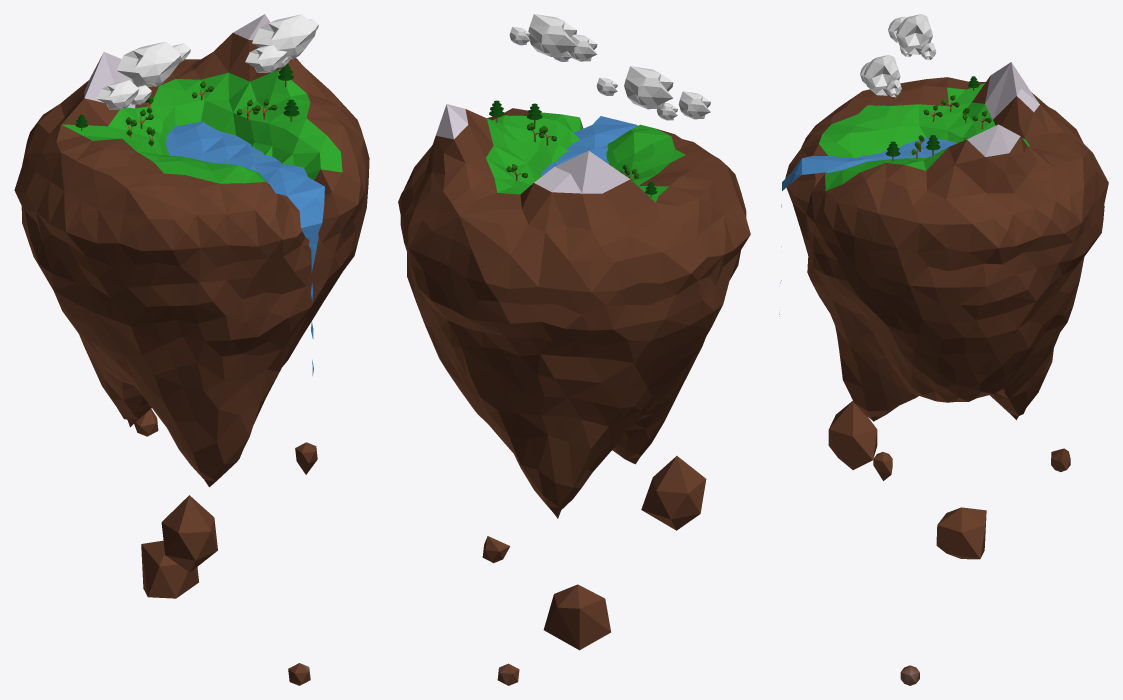
The model's file is low-poly-island-scene.gltf.
The picture shows the model from 3 angles, left to right: view 1: azimuth 30°, elevation 25°; view 2: azimuth 150°, elevation 25°; view 3: azimuth 270°, elevation 25°; orthographic projection. The views are drawn at different scales.
Visible parts, largest first — view 1: Icosphere, Plane, Icosphere.001, Icosphere.005, Icosphere.002, Icosphere.038; view 2: Icosphere, Plane, Icosphere.001, Icosphere.005, Icosphere.002, Icosphere.038; view 3: Icosphere, Plane, Icosphere.001, Icosphere.005.
Boxes of the visible parts, x1=… form: Icosphere: x1=14, y1=14, x2=369, y2=685; Plane: x1=166, y1=122, x2=324, y2=375; Icosphere.001: x1=116, y1=41, x2=180, y2=86; Icosphere.005: x1=252, y1=14, x2=316, y2=59; Icosphere.002: x1=97, y1=80, x2=138, y2=109; Icosphere.038: x1=245, y1=44, x2=287, y2=72; Icosphere: x1=398, y1=104, x2=750, y2=685; Plane: x1=541, y1=116, x2=637, y2=176; Icosphere.001: x1=624, y1=66, x2=673, y2=109; Icosphere.005: x1=528, y1=14, x2=576, y2=56; Icosphere.002: x1=678, y1=91, x2=710, y2=119; Icosphere.038: x1=568, y1=34, x2=597, y2=61; Icosphere: x1=785, y1=62, x2=1108, y2=685; Plane: x1=779, y1=137, x2=957, y2=316; Icosphere.001: x1=896, y1=14, x2=932, y2=54; Icosphere.005: x1=863, y1=55, x2=900, y2=95.
Size of the model in its own units: 11.23 by 23.79 by 11.55.
